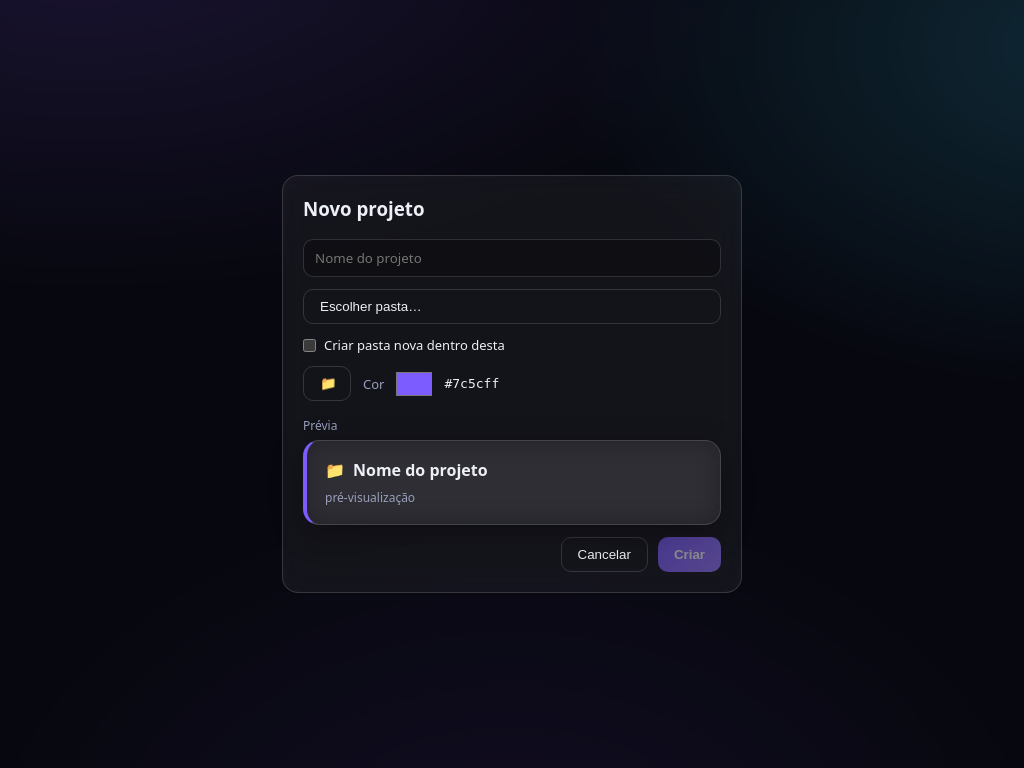
Scenario: NewProjectModal › preview reflete o nome digitado
The image size is (1024, 768).
Type "Meu App" into the field with placeholder "Nome do projeto" at (512, 258), box [303, 239, 721, 277]
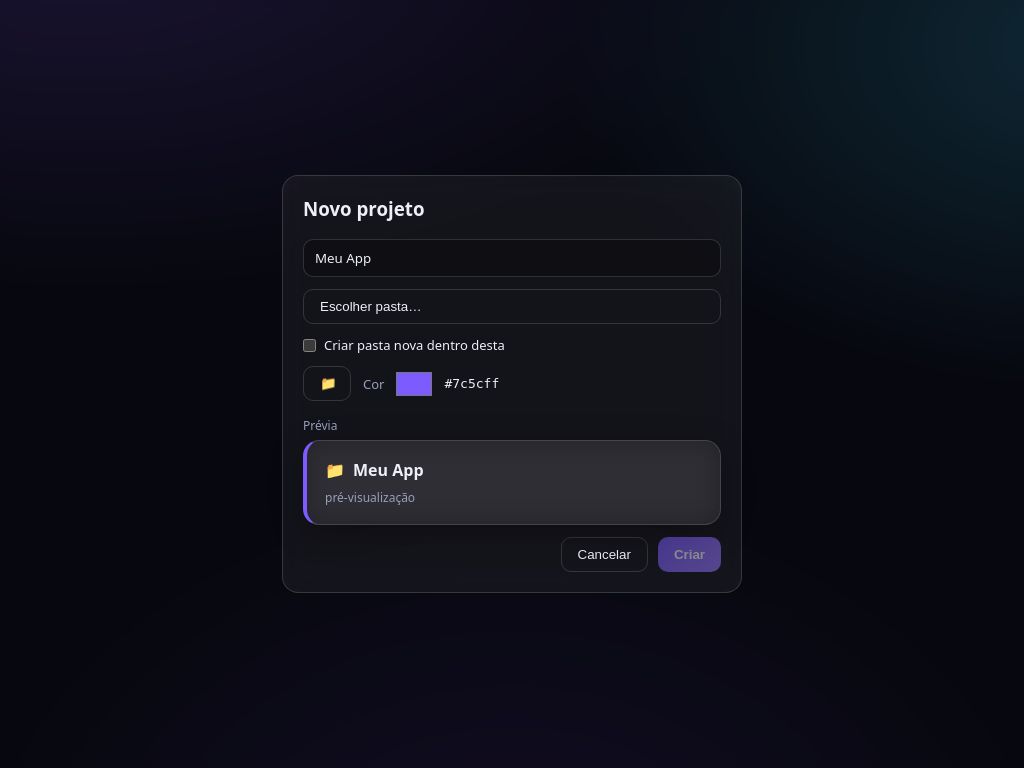
Check: the text "Meu App" is shown, box [353, 459, 424, 481]
